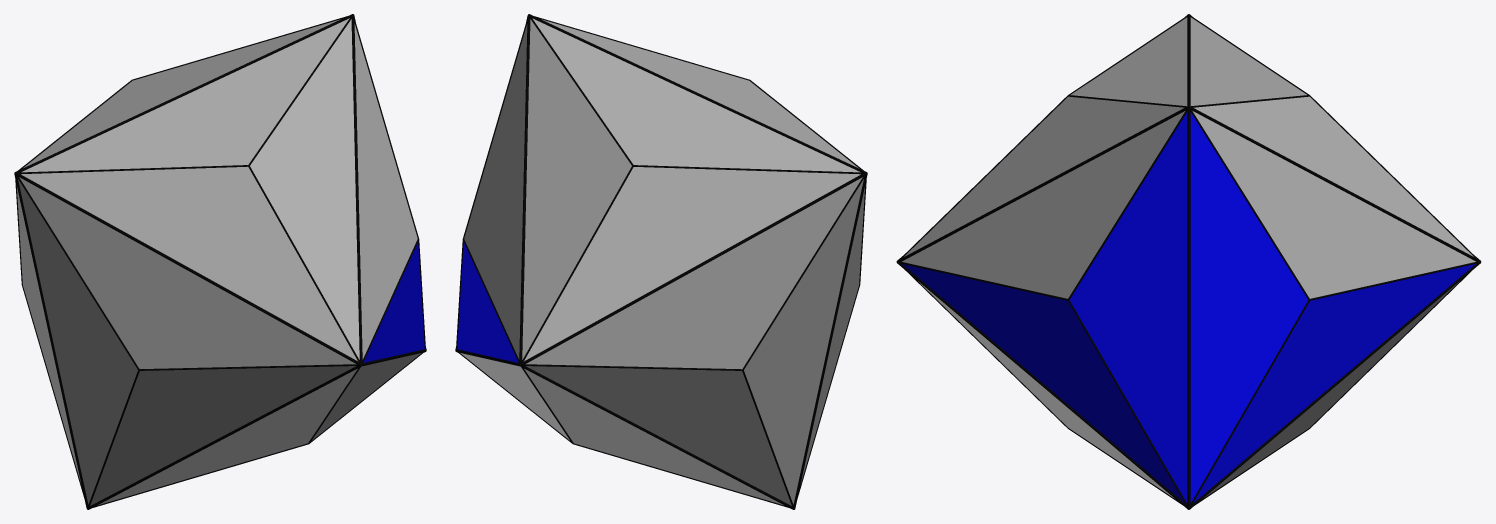
The model's file is TriakisOctahedron1.glb.
3 renders of one model, left to right at view 1: azimuth 30°, elevation 25°; view 2: azimuth 150°, elevation 25°; view 3: azimuth 270°, elevation 25°, orthographic. The views are drawn at different scales.
Size of the model in its own units: 4.08 by 4.08 by 4.85.
